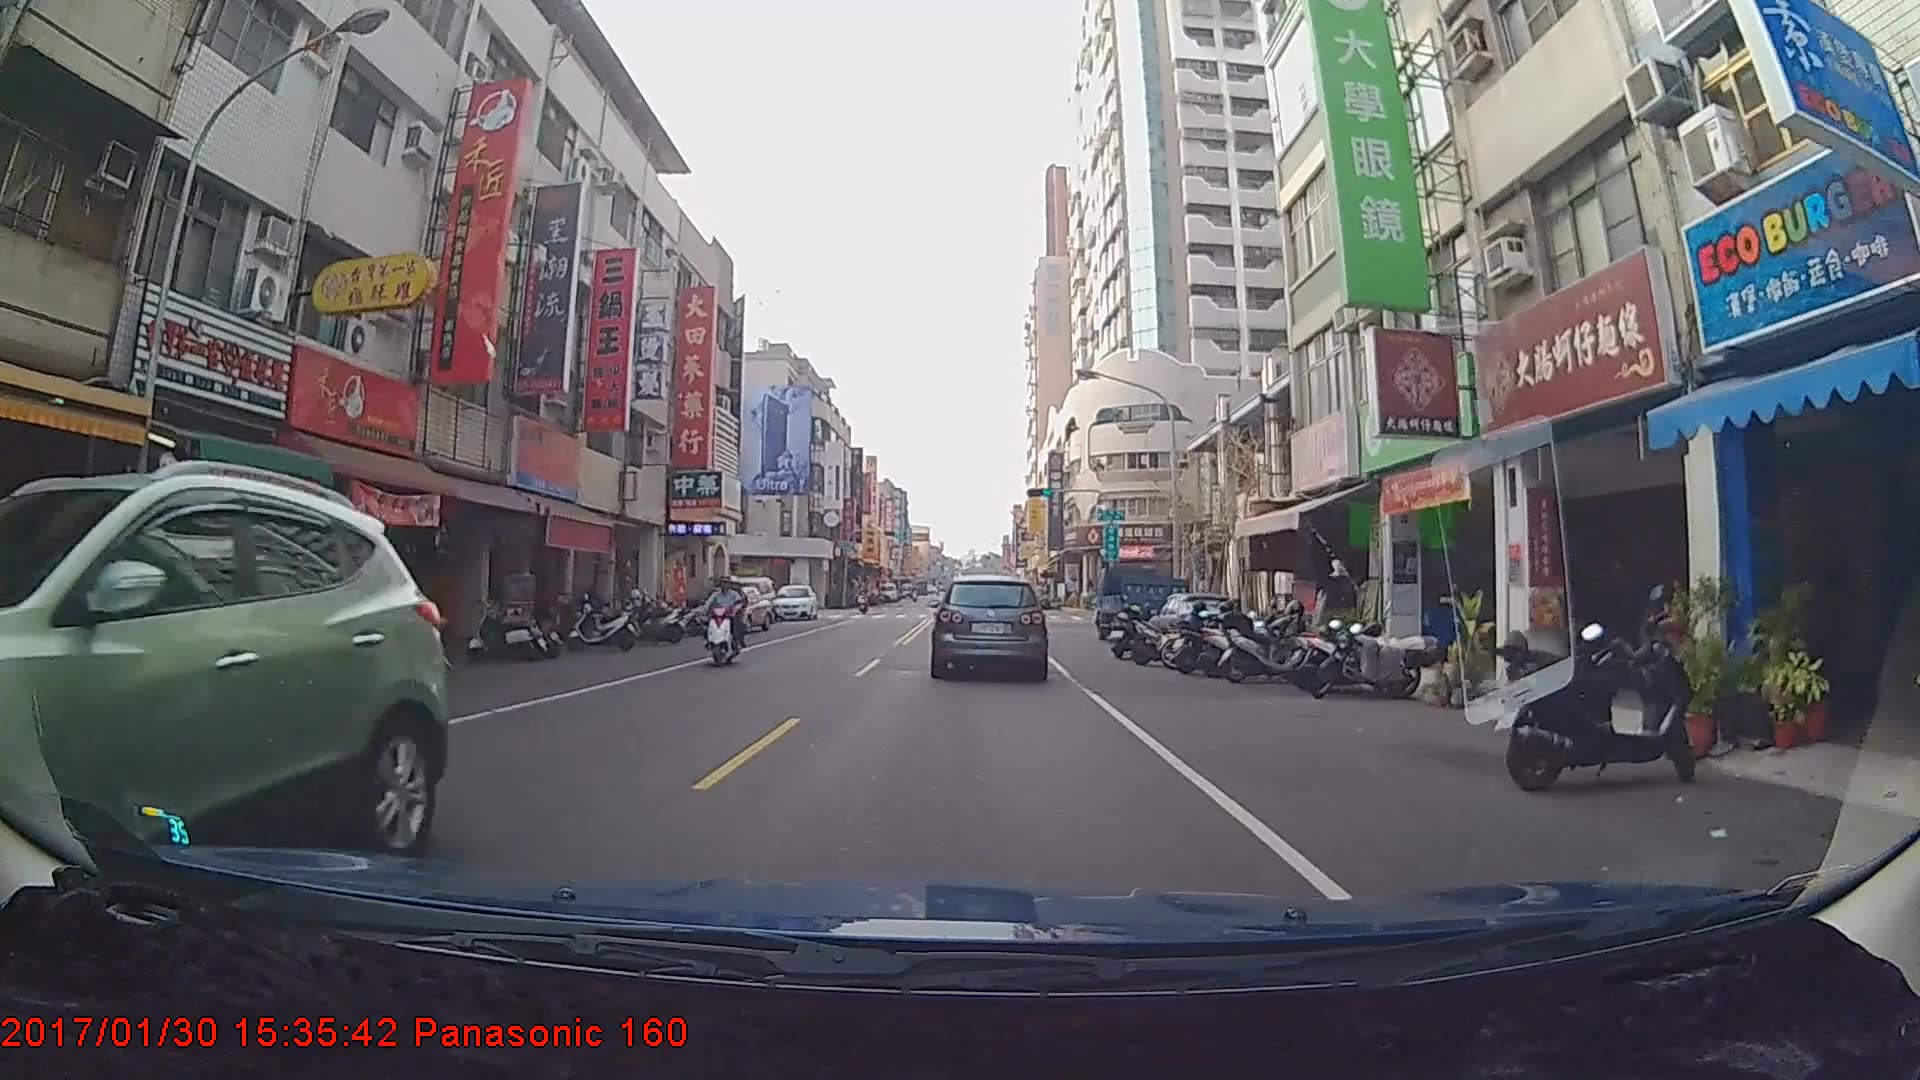rider: (700, 573, 754, 670)
vehicle: (0, 471, 441, 908), (932, 573, 1046, 678), (1092, 563, 1194, 644), (691, 584, 772, 635), (769, 585, 817, 625)
